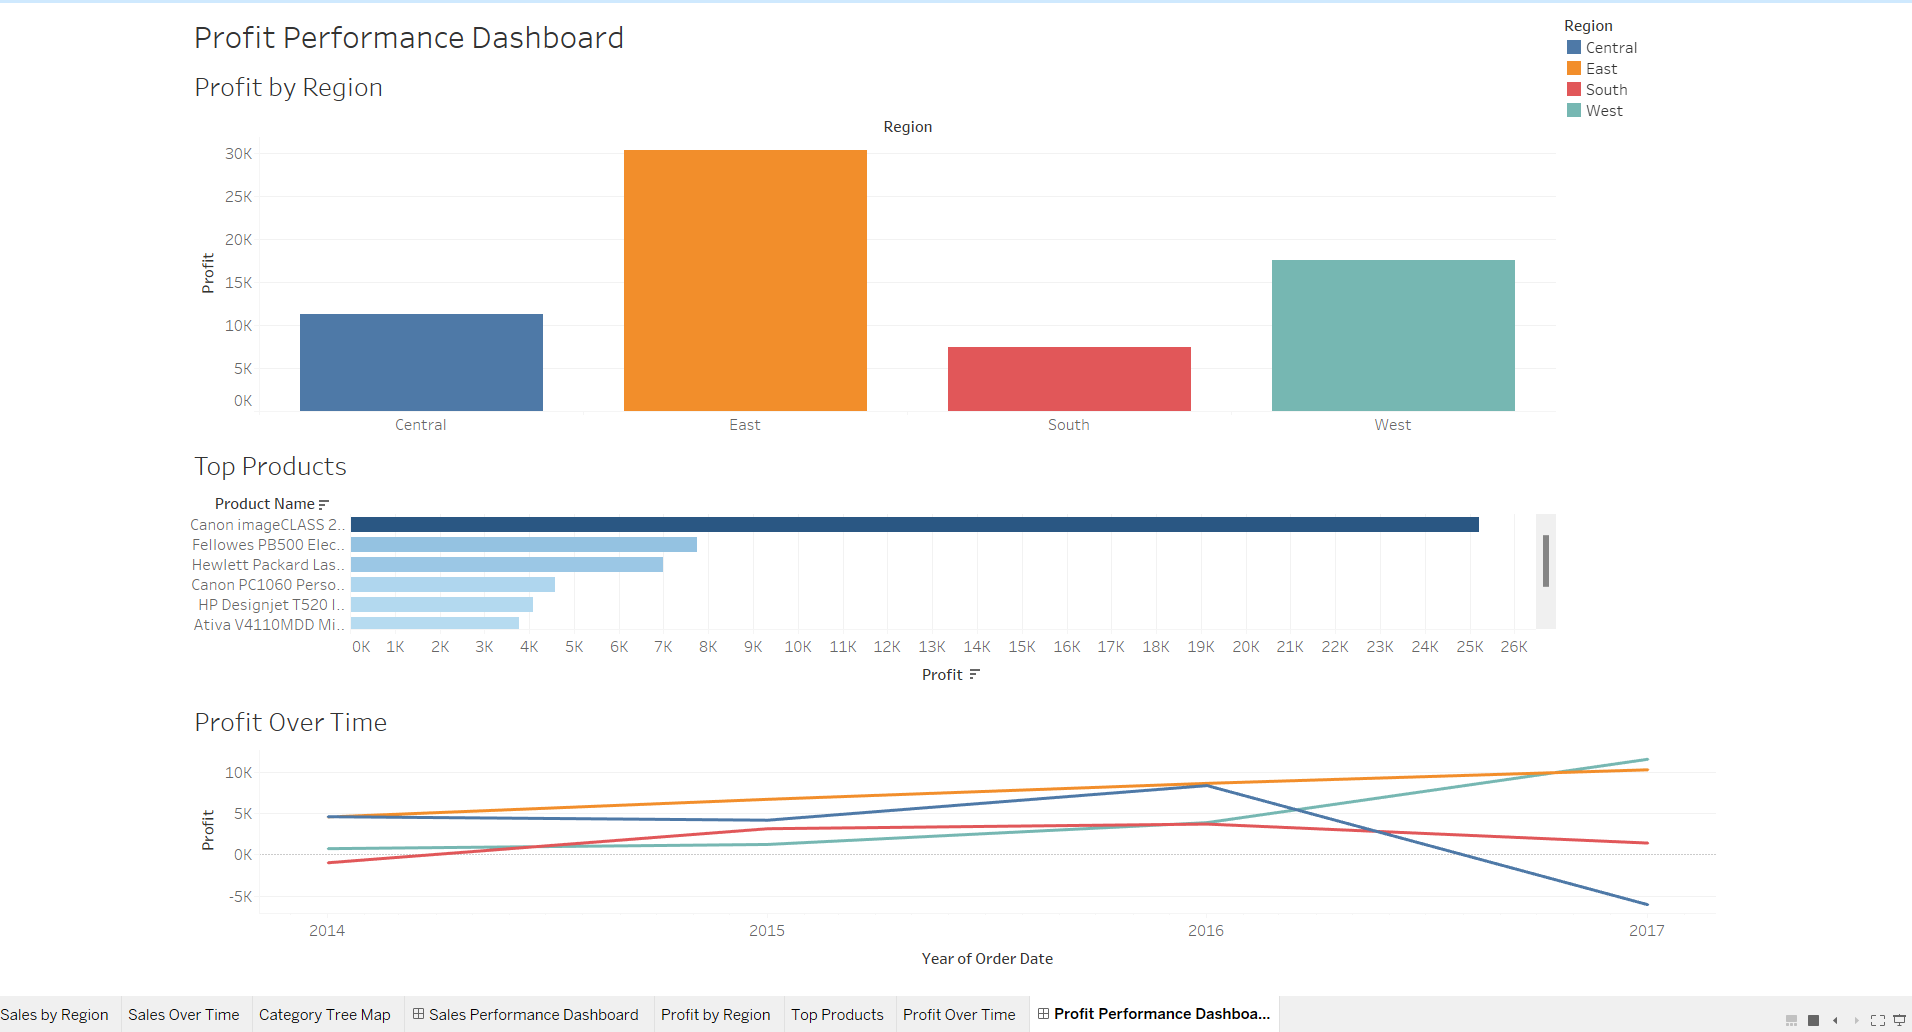

The dashboard page shown, as its layout file describes it:
{"tool":"tableau","page":{"name":"Profit Performance Dashboard","canvas":[1000,1000],"units":"permille","ordinal":0},"visuals":[{"type":"title","box":[5.2,10,886.5,62.4]},{"type":"legend","title":"Profit by Region","param":"[federated.14hjw1g11ffnsq1f6kn9u19j87cg].[none:Region:nk]","box":[891.6,10,103.2,142.2]},{"type":"worksheet","title":"Profit by Region","mark":"Automatic","rows":["Profit"],"cols":["Region"],"box":[5.2,72.3,886.5,305.5]},{"type":"worksheet","title":"Top Products","mark":"Automatic","rows":["Product Name"],"cols":["Profit"],"box":[5.2,377.8,886.5,319.2]},{"type":"worksheet","title":"Profit Over Time","mark":"Automatic","rows":["Profit"],"cols":["Order Date"],"box":[5.2,697,989.7,293]}]}

Visuals, with their boxes on the dashboard's canvas, which has no fixed pixel size, in thousandths of its width and height (x1, y1, x2, y2). These are canvas units, not pixel positions in the 1912x1032 screenshot, which may show the page scaled, cropped or inside an application window:
title: <box>5,10,892,72</box>
"Profit by Region" legend: <box>892,10,995,152</box>
"Profit by Region" worksheet: <box>5,72,892,378</box>
"Top Products" worksheet: <box>5,378,892,697</box>
"Profit Over Time" worksheet: <box>5,697,995,990</box>
